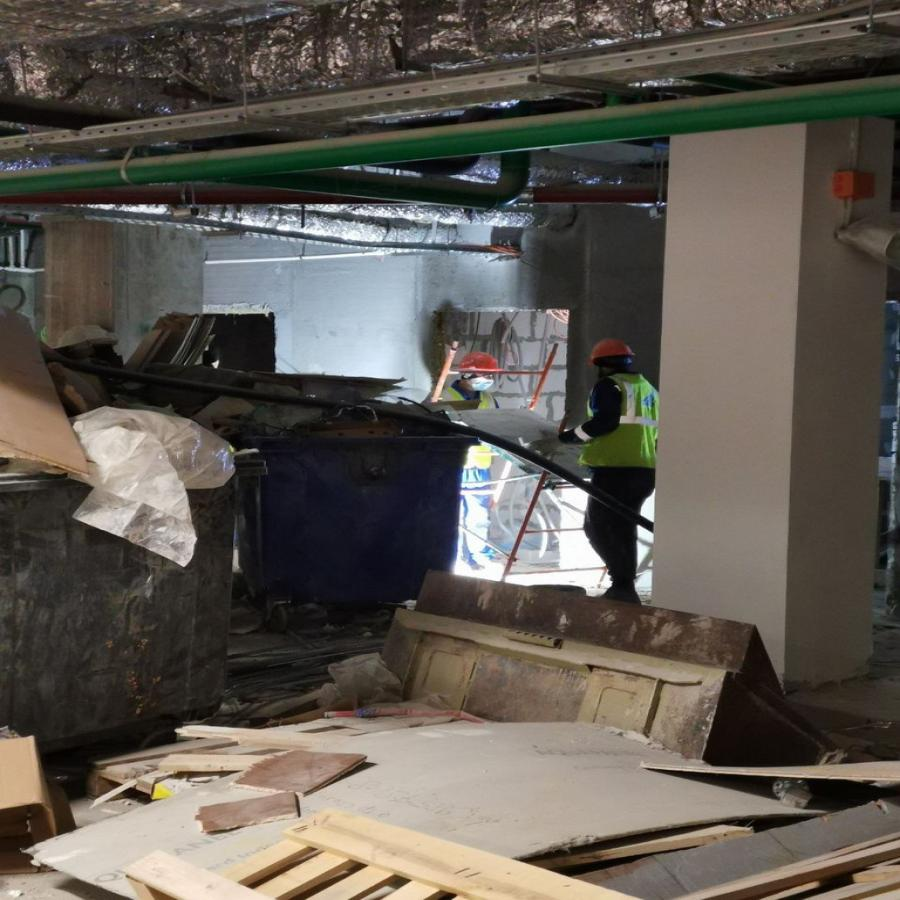Helmet: (589, 338, 641, 380), (453, 353, 508, 392)
